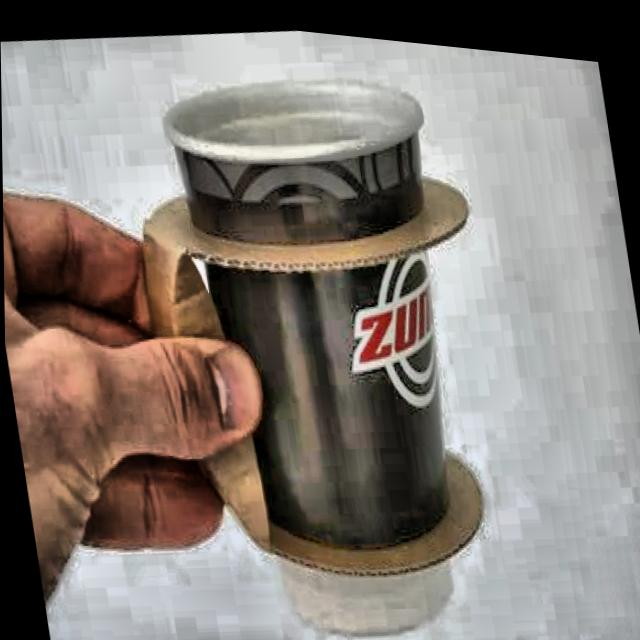Cup: (144, 27, 487, 575)
